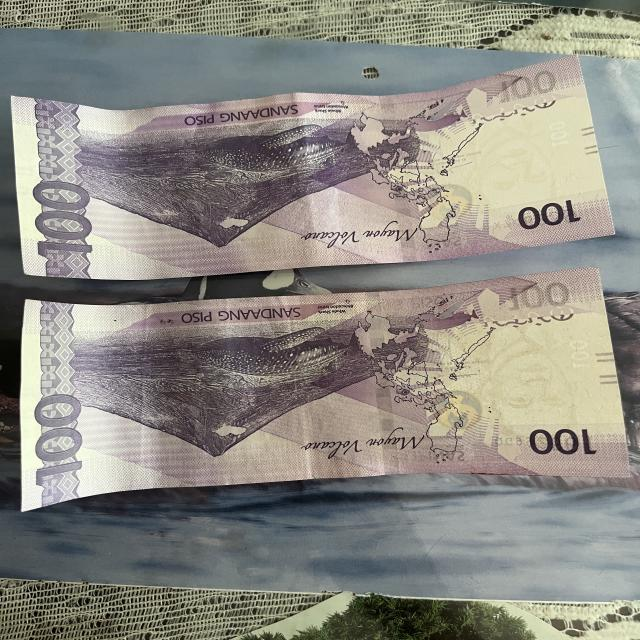100_whale: (179, 320, 377, 384), (178, 120, 372, 183)
100_whale_watermark: (398, 298, 481, 340), (380, 104, 473, 141)
value_watermark: (535, 113, 580, 153), (562, 332, 603, 374)
watermark: (446, 300, 600, 448), (437, 89, 596, 225)
